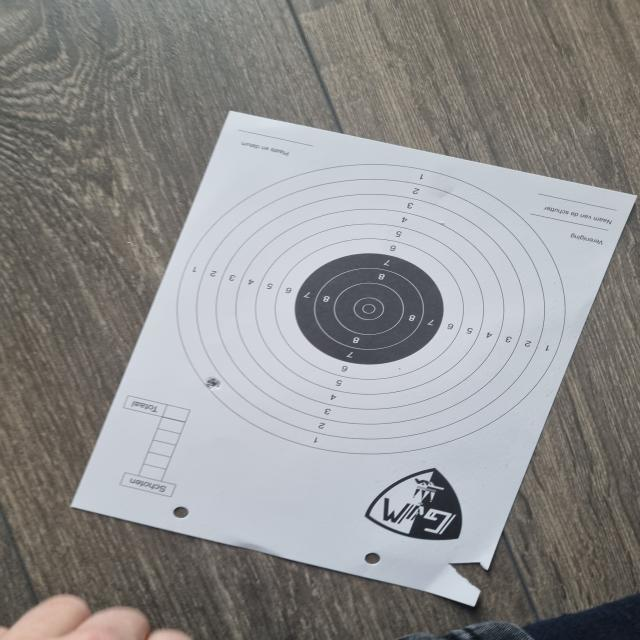1: (206, 378, 222, 391)
Black Contour: (296, 254, 444, 365)
Target: (177, 164, 564, 454)
